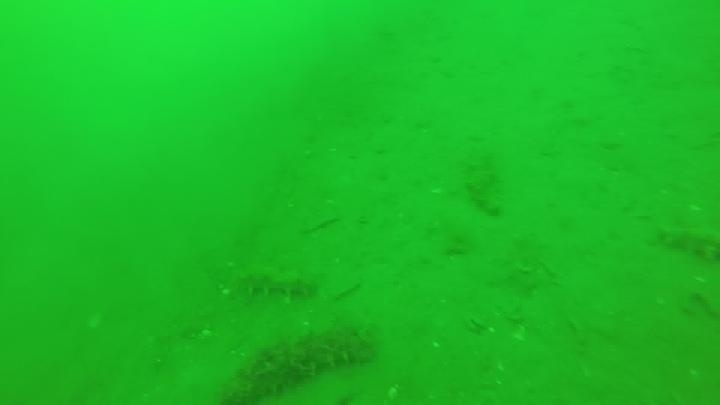holothurian: (219, 324, 378, 402), (229, 266, 320, 303), (462, 149, 507, 220), (653, 220, 720, 264)
